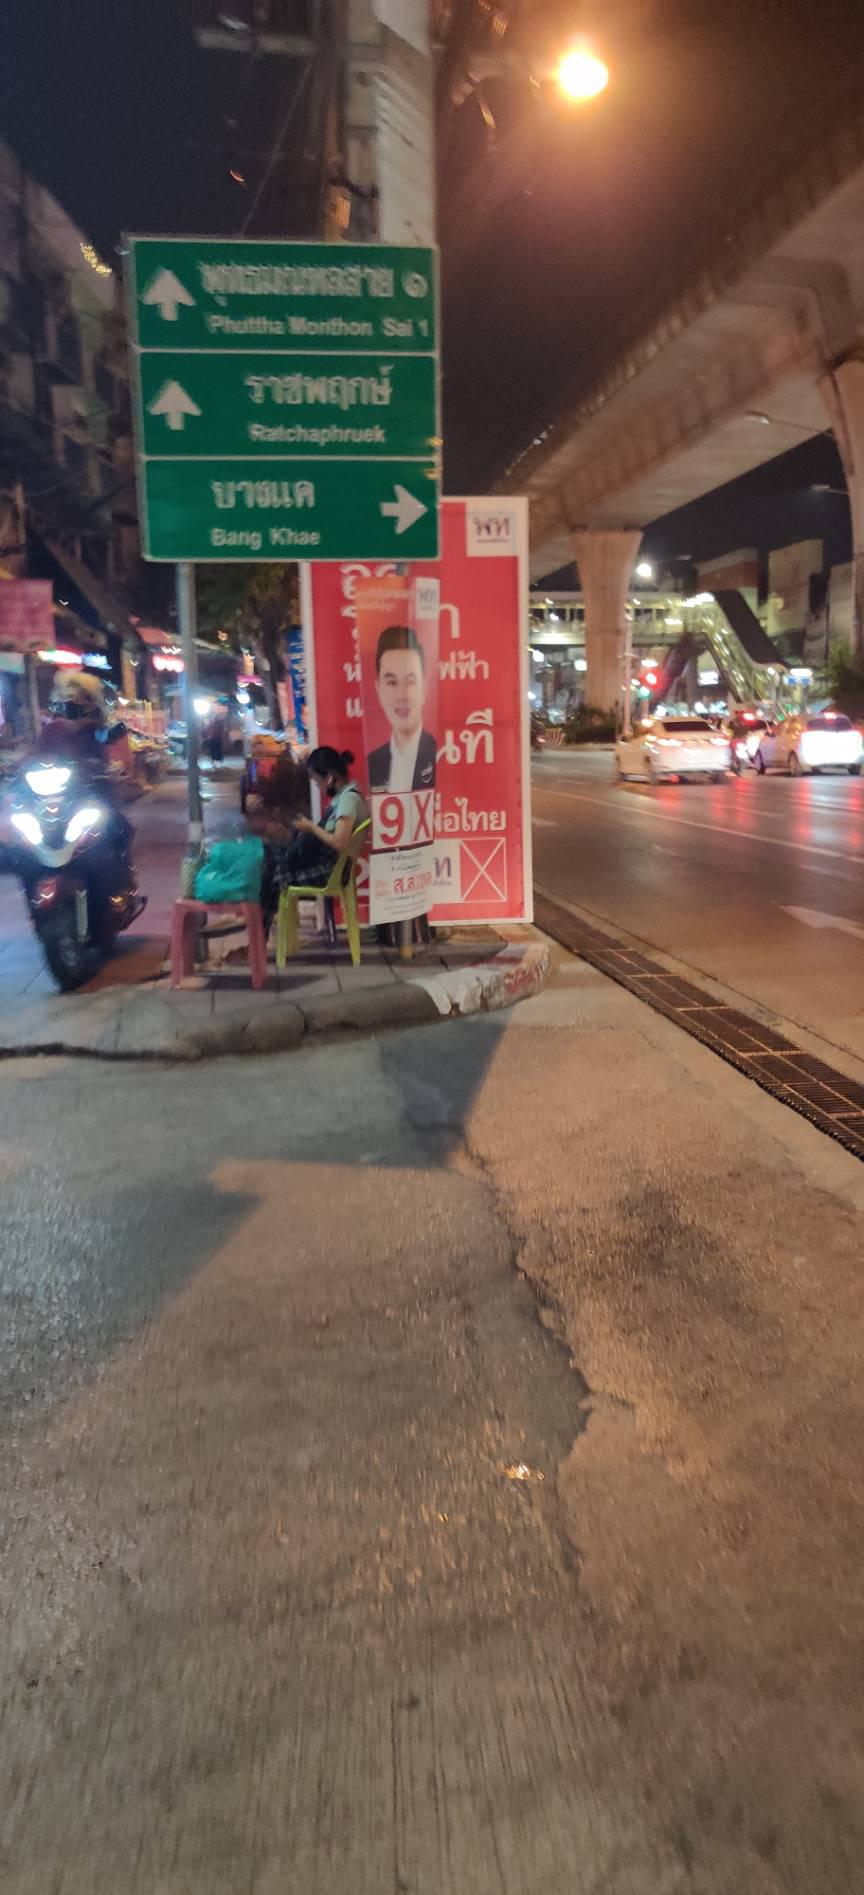Banner: (302, 489, 532, 928)
